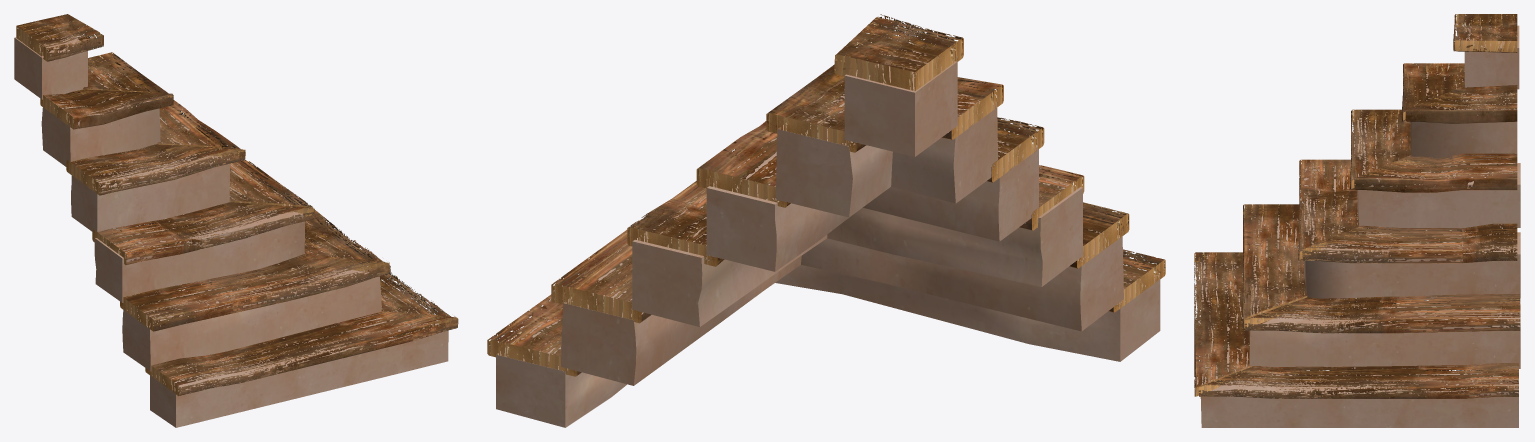
3 views of the same model, side by side, from view 1: azimuth 30°, elevation 25°; view 2: azimuth 150°, elevation 25°; view 3: azimuth 270°, elevation 25° (orthographic). The views are drawn at different scales.
Visible parts, largest first — view 1: SM_BB_T4_Stairs_OurterCorner_LOD0; view 2: SM_BB_T4_Stairs_OurterCorner_LOD0; view 3: SM_BB_T4_Stairs_OurterCorner_LOD0.
Boxes of the visible parts, x1=… form: SM_BB_T4_Stairs_OurterCorner_LOD0: x1=14, y1=14, x2=458, y2=427; SM_BB_T4_Stairs_OurterCorner_LOD0: x1=487, y1=14, x2=1165, y2=427; SM_BB_T4_Stairs_OurterCorner_LOD0: x1=1194, y1=14, x2=1520, y2=427.
Size of the model in its own units: 1.55 by 1.52 by 1.57.
Materials: 2 (2 with a texture image).
